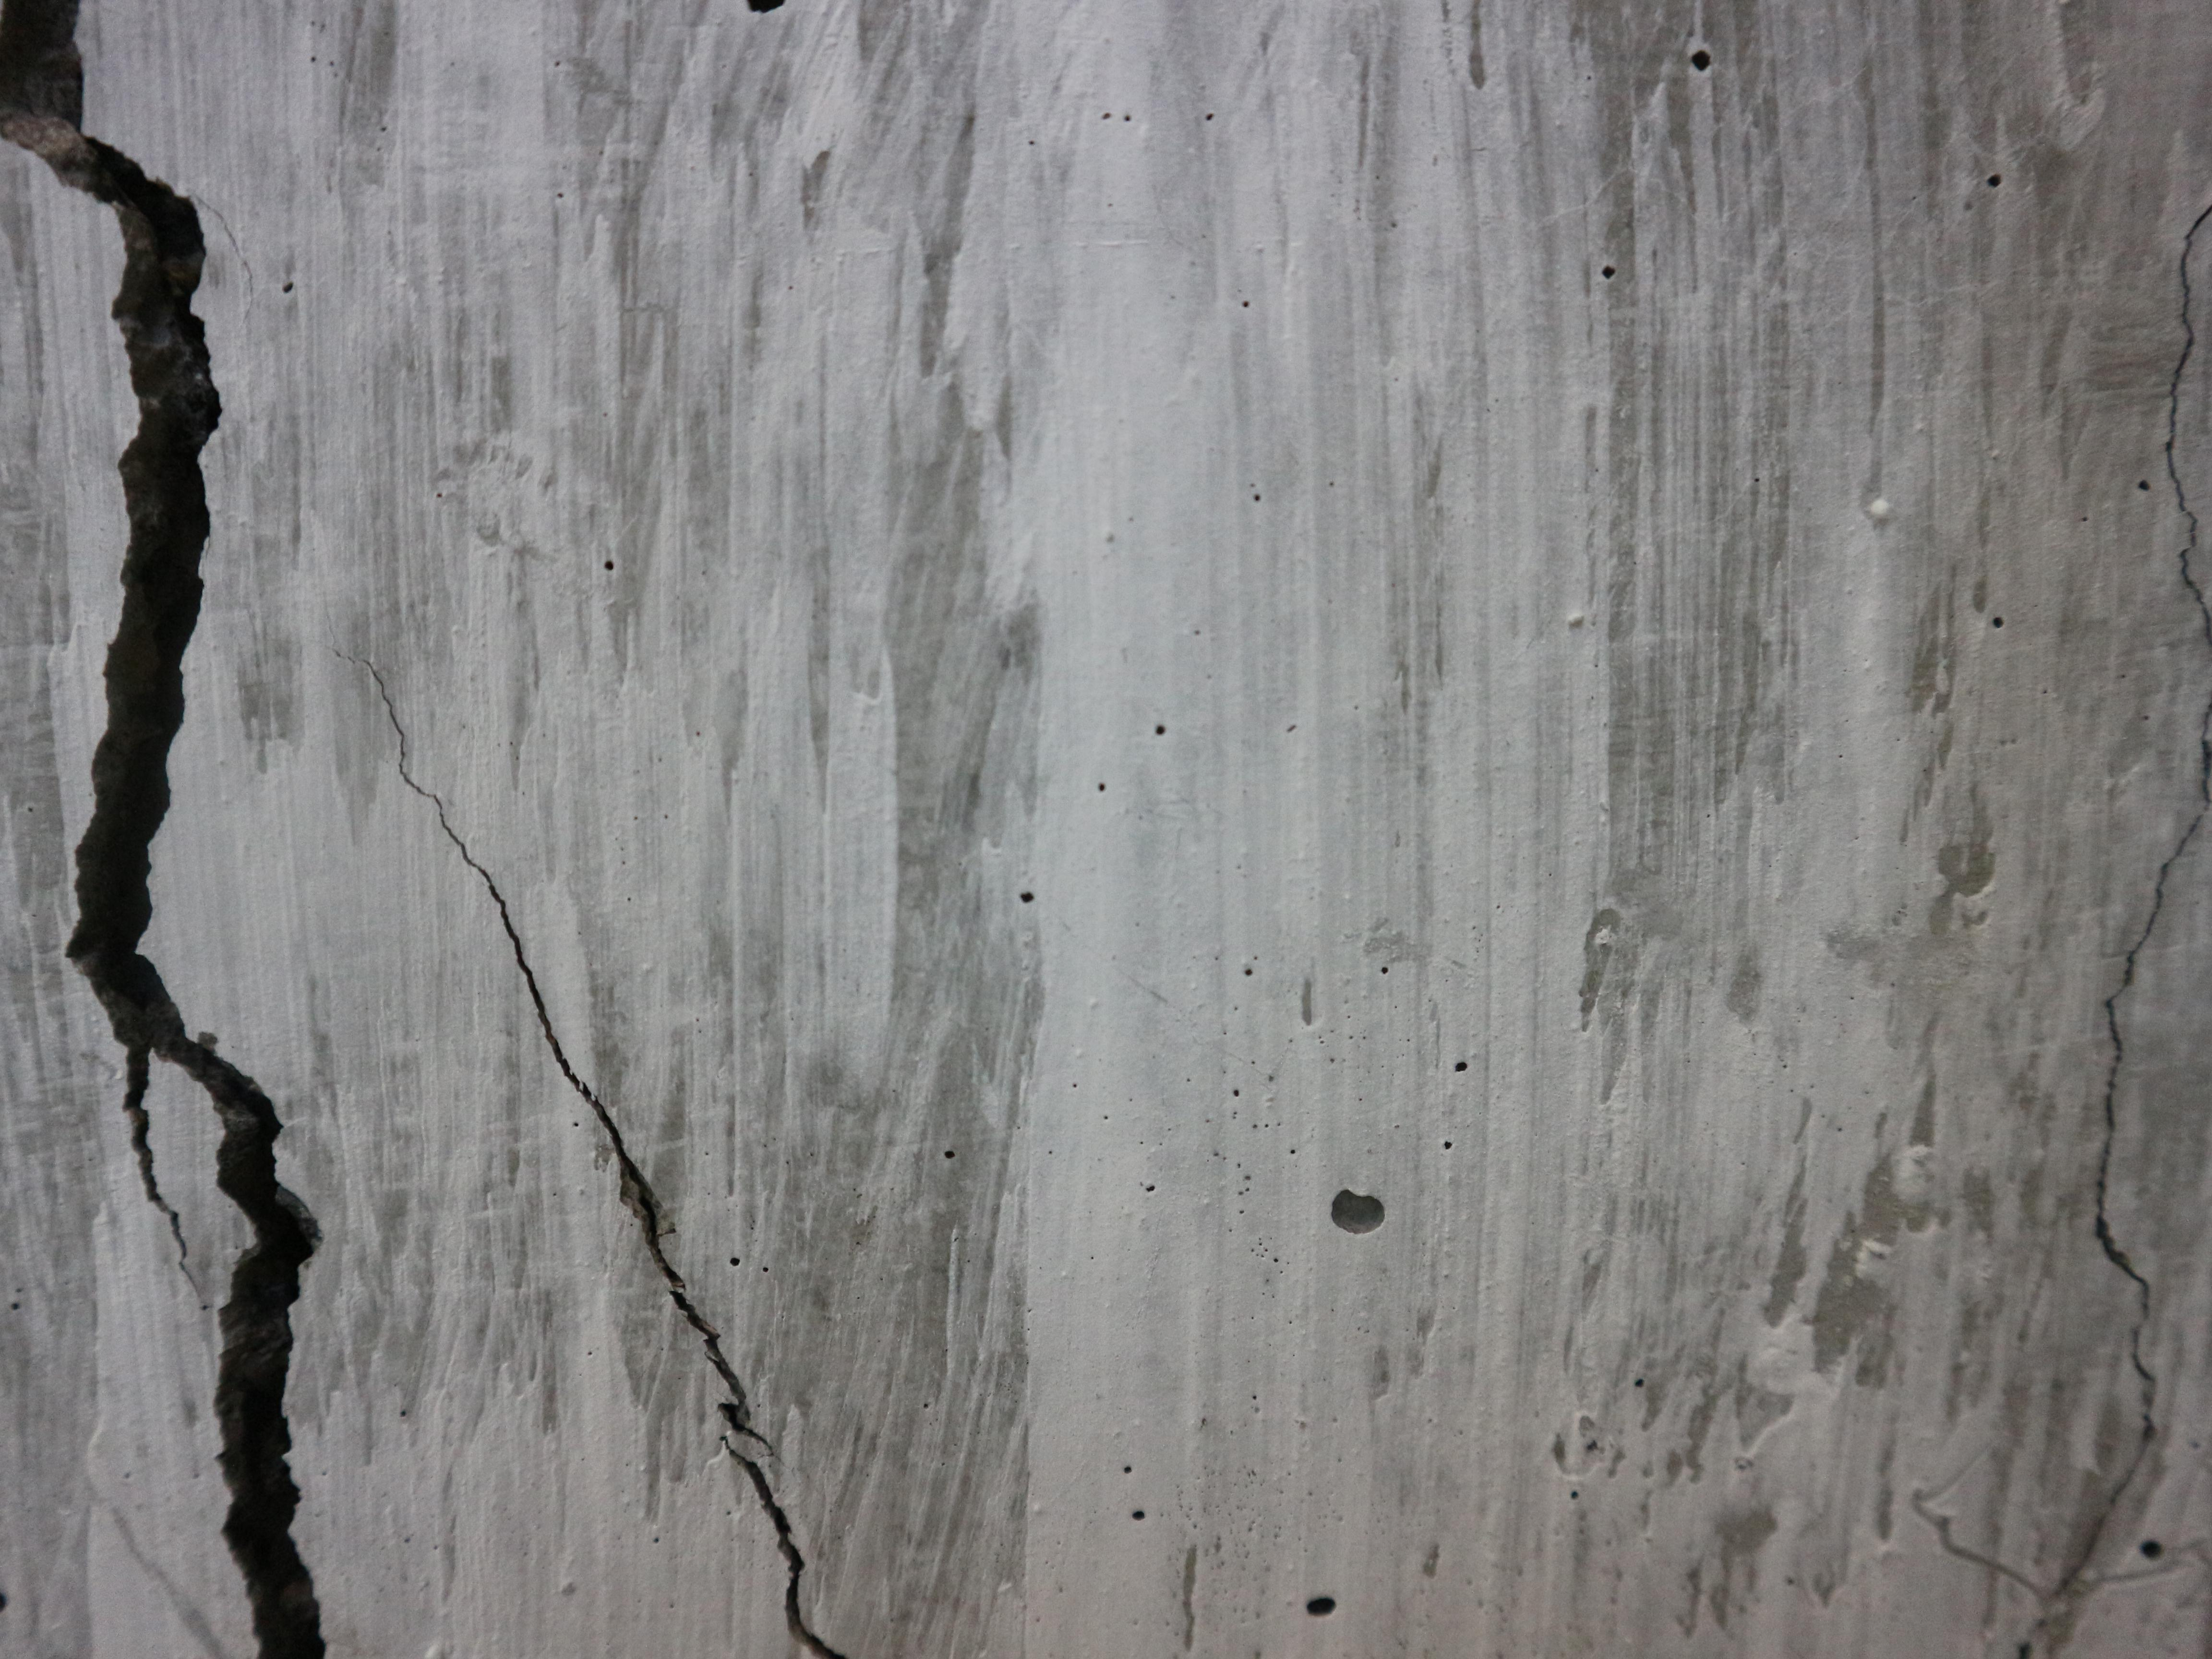crack: (338, 655, 874, 1659), (0, 0, 324, 1659), (2015, 211, 2212, 1659)
hole: (1329, 1187, 1386, 1234), (738, 2, 791, 17), (1308, 1595, 1336, 1619), (1688, 49, 1710, 71), (2141, 1539, 2163, 1561), (1986, 174, 2003, 188), (1019, 890, 1035, 904), (2137, 477, 2151, 491), (1991, 617, 2005, 631), (280, 281, 294, 295), (1601, 267, 1616, 279), (1130, 1511, 1146, 1523), (1155, 723, 1167, 735), (1096, 781, 1106, 793), (944, 1150, 956, 1161), (730, 1256, 742, 1267), (1456, 1061, 1467, 1072), (1442, 1141, 1453, 1152), (1204, 112, 1214, 122), (1244, 967, 1254, 978), (1634, 1378, 1646, 1387), (604, 559, 613, 572), (1123, 113, 1132, 124), (1381, 965, 1390, 976), (1122, 1466, 1132, 1474), (1242, 298, 1249, 310), (1252, 493, 1261, 502), (1231, 1089, 1240, 1098), (1571, 1490, 1578, 1499), (1146, 1185, 1155, 1192), (1273, 1256, 1278, 1263), (1291, 1148, 1296, 1154), (1263, 1124, 1268, 1129)
